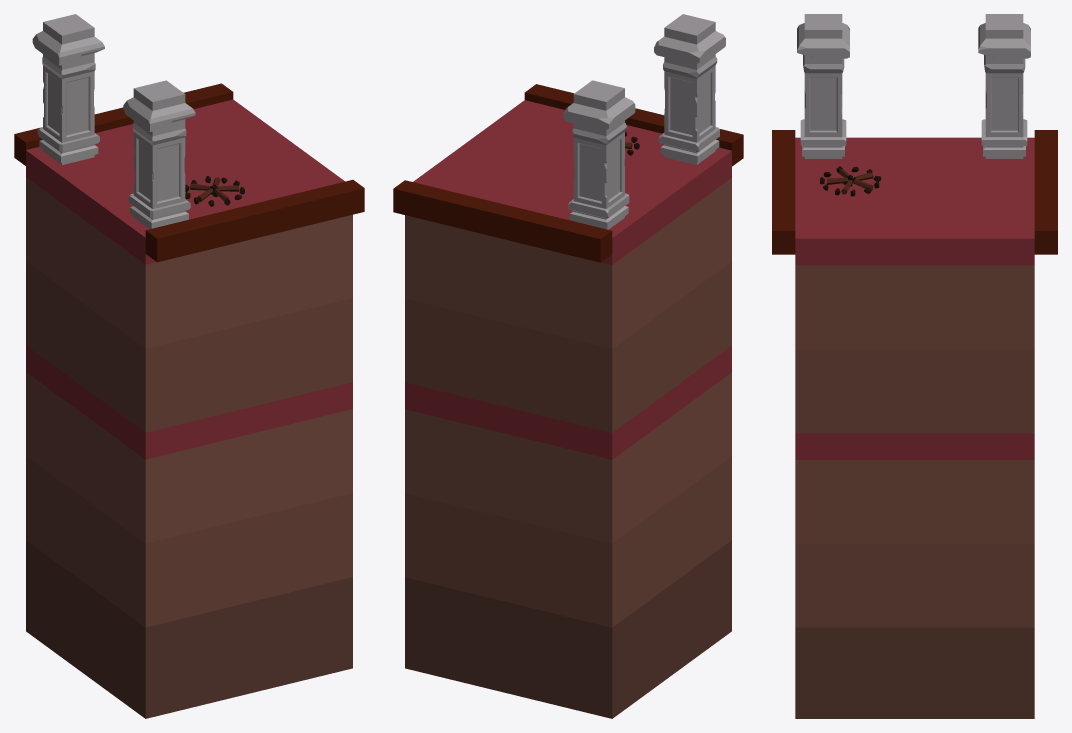
File: Plano15.fbx
3 views of the same model, side by side, from view 1: azimuth 30°, elevation 25°; view 2: azimuth 150°, elevation 25°; view 3: azimuth 270°, elevation 25° (orthographic).
Visible parts, largest first — view 1: Plane.075, Plane.074, Plane.077, Cube.1725, Plane.076, Plane.078, Plane.079, Rock.007; view 2: Plane.075, Plane.074, Plane.077, Cube.1725, Plane.076, Plane.079, Plane.078; view 3: Plane.075, Plane.074, Plane.077, Plane.076, Plane.078, Plane.079, Cube.1725, Rock.007.
Part boxes in pixels (box(x1,y1,x2,y2)): Plane.075: box(26, 372, 352, 718); Plane.074: box(26, 177, 352, 432); Plane.077: box(26, 99, 344, 264); Cube.1725: box(14, 83, 364, 262); Plane.076: box(26, 345, 352, 459); Plane.078: box(32, 14, 104, 164); Plane.079: box(123, 80, 195, 229); Rock.007: box(185, 176, 244, 206); Plane.075: box(405, 372, 731, 718); Plane.074: box(405, 178, 731, 432); Plane.077: box(413, 100, 731, 264); Cube.1725: box(393, 84, 743, 262); Plane.076: box(405, 345, 731, 459); Plane.079: box(654, 14, 725, 164); Plane.078: box(563, 80, 635, 229); Plane.075: box(795, 460, 1034, 718); Plane.074: box(795, 265, 1034, 433); Plane.077: box(795, 137, 1034, 265); Plane.076: box(795, 433, 1034, 459); Plane.078: box(978, 14, 1030, 158); Plane.079: box(797, 14, 849, 158); Cube.1725: box(772, 130, 1057, 254); Rock.007: box(820, 166, 881, 196).
Bounding box in the file's own units: 800 × 2249 × 955.
